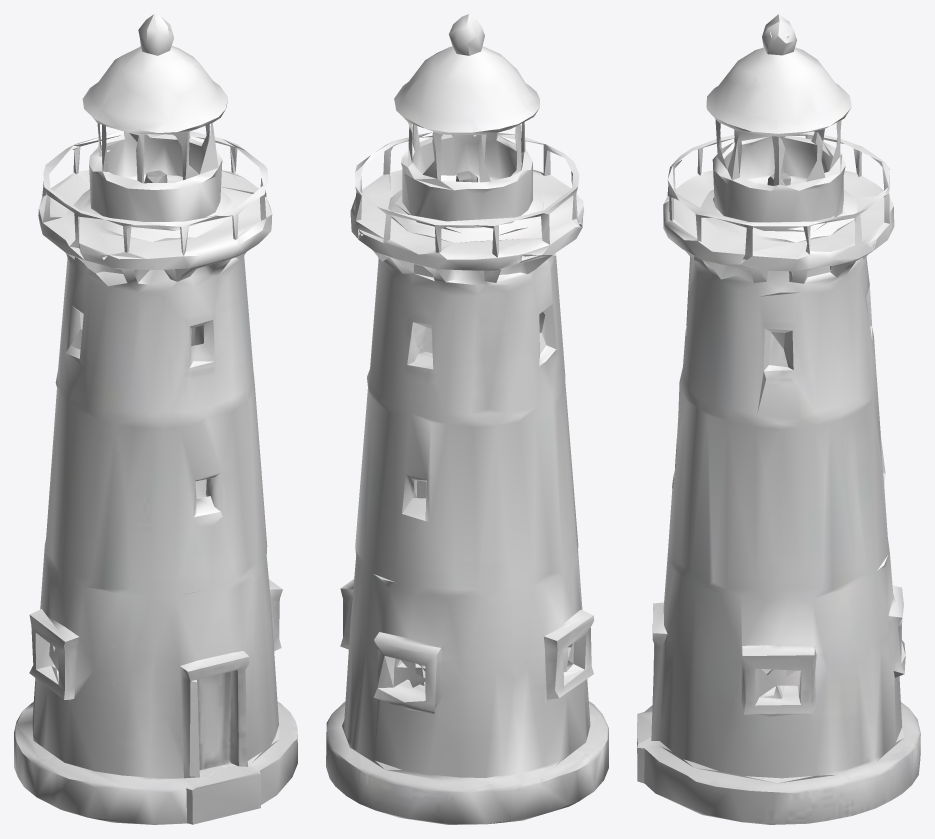
Rendered from lighthouse.glb.
The picture shows the model from 3 angles, left to right: view 1: azimuth 30°, elevation 25°; view 2: azimuth 150°, elevation 25°; view 3: azimuth 270°, elevation 25°; orthographic projection.
Parts seen in each view (by area): view 1: lighthouse; view 2: lighthouse; view 3: lighthouse.
Boxes of the visible parts, left/top/right/bottom form: lighthouse: left=14, top=14, right=297, bottom=824; lighthouse: left=326, top=14, right=608, bottom=824; lighthouse: left=637, top=14, right=920, bottom=824.
Bounding box in the file's own units: 3.08 × 9 × 3.08.
Materials: 1 (1 with a texture image).
